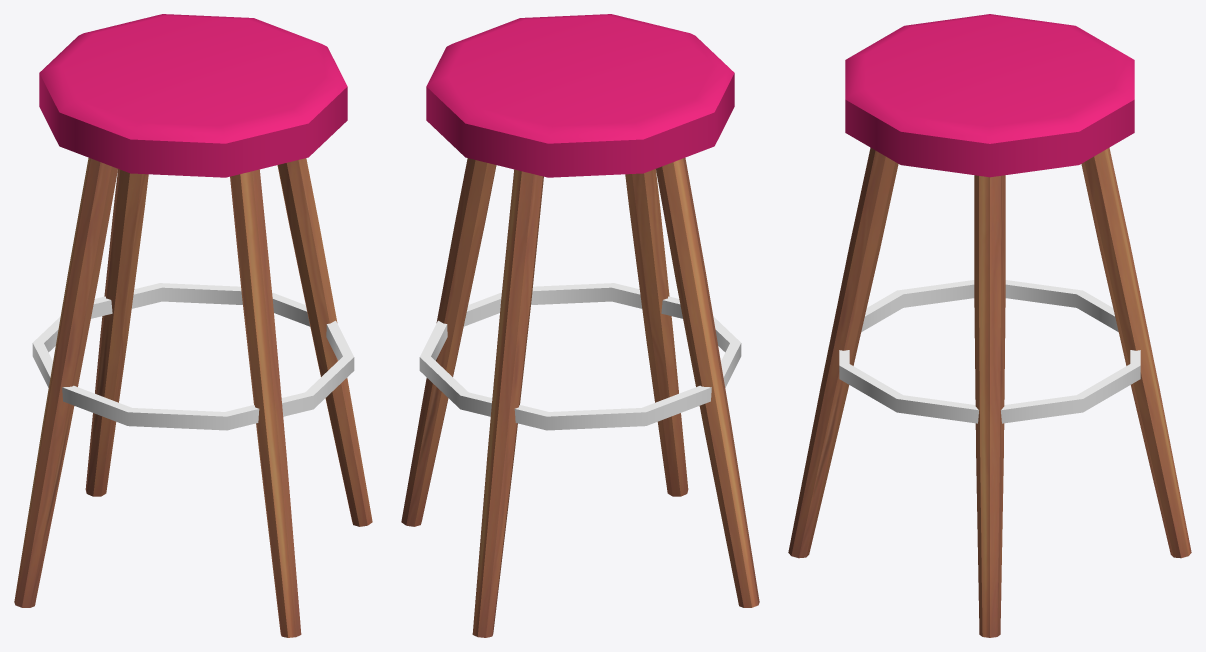
The model's file is stoolM.fbx.
3 views of the same model, side by side, from view 1: azimuth 30°, elevation 25°; view 2: azimuth 150°, elevation 25°; view 3: azimuth 270°, elevation 25° (orthographic).
Visible parts, largest first — view 1: pCylinder7; view 2: pCylinder7; view 3: pCylinder7.
Part boxes in pixels (left/top/right/bottom): pCylinder7: left=14, top=14, right=372, bottom=637; pCylinder7: left=401, top=14, right=759, bottom=637; pCylinder7: left=788, top=14, right=1191, bottom=637.
Size of the model in its own units: 75.52 by 99.87 by 75.52.
1 material, 1 textured.
